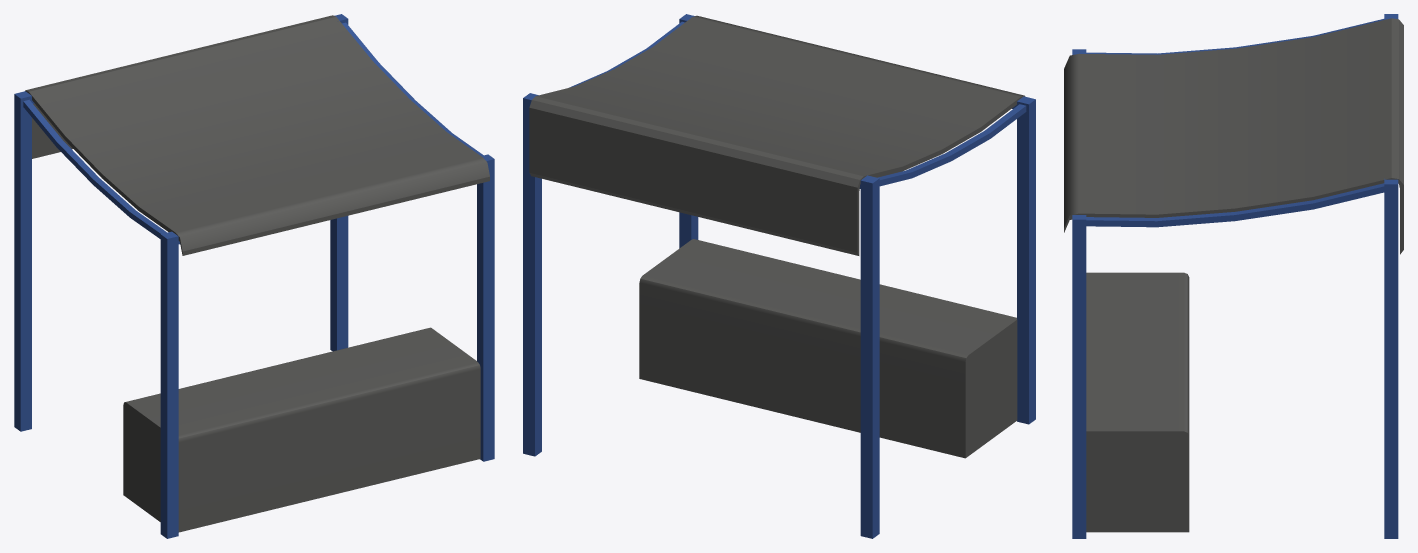
The model's file is CoveredStall_02.fbx.
3 views of the same model, side by side, from view 1: azimuth 30°, elevation 25°; view 2: azimuth 150°, elevation 25°; view 3: azimuth 270°, elevation 25° (orthographic). The views are drawn at different scales.
Visible parts, largest first — view 1: CoveredStall_02; view 2: CoveredStall_02; view 3: CoveredStall_02.
Part boxes in pixels (x1=…): CoveredStall_02: x1=14, y1=14, x2=494, y2=538; CoveredStall_02: x1=523, y1=14, x2=1035, y2=538; CoveredStall_02: x1=1064, y1=14, x2=1403, y2=538.
Bounding box in the file's own units: 598 × 584 × 504.
